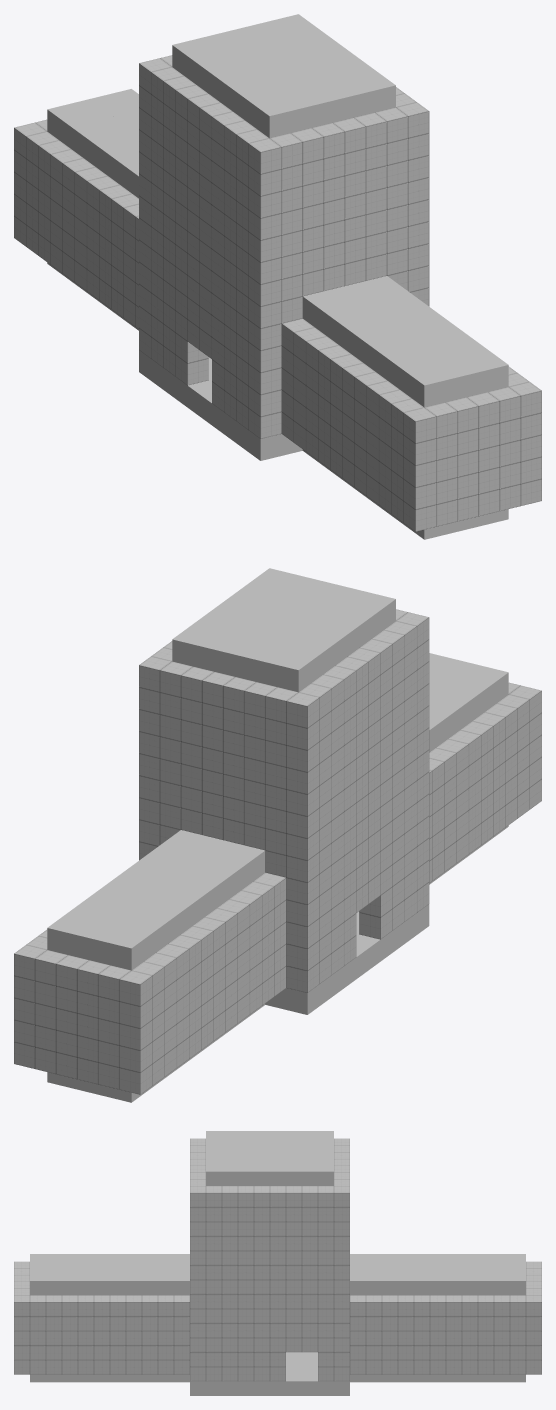
File: Level2 (1).fbx
The picture shows the model from 3 angles, top to bottom: view 1: azimuth 30°, elevation 25°; view 2: azimuth 150°, elevation 25°; view 3: azimuth 270°, elevation 25°; orthographic projection. The views are drawn at different scales.
Visible parts, largest first — view 1: Box1514, Box2744, Box062, Box1081, Box2473, Box065, Box061, Box1078, Box1080, Box1077, Box066, Box1079 (+1 smaller); view 2: Box1514, Box2744, Box2391, Box2049, Box2477, Box2044, Box2046, Box2048, Box2389, Box2390, Box2393, Box2045 (+1 smaller); view 3: Box1514, Box2744, Box061, Box085, Box109, Box133, Box157, Box181, Box205, Box229, Box253, Box277 (+21 smaller).
Boxes of the visible parts, x1=… form: Box1514: x1=14, y1=119, x2=541, y2=531; Box2744: x1=139, y1=55, x2=429, y2=328; Box062: x1=412, y1=371, x2=445, y2=407; Box1081: x1=257, y1=102, x2=290, y2=138; Box2473: x1=248, y1=430, x2=281, y2=460; Box065: x1=433, y1=366, x2=466, y2=402; Box061: x1=476, y1=356, x2=508, y2=391; Box1078: x1=278, y1=97, x2=311, y2=132; Box1080: x1=321, y1=87, x2=353, y2=122; Box1077: x1=342, y1=81, x2=374, y2=117; Box066: x1=455, y1=361, x2=487, y2=396; Box1079: x1=300, y1=92, x2=332, y2=127; Box1514: x1=14, y1=682, x2=541, y2=1094; Box2744: x1=139, y1=609, x2=429, y2=882; Box2391: x1=110, y1=934, x2=143, y2=970; Box2049: x1=277, y1=656, x2=310, y2=692; Box2477: x1=286, y1=984, x2=319, y2=1014; Box2044: x1=172, y1=630, x2=204, y2=666; Box2046: x1=214, y1=641, x2=246, y2=676; Box2048: x1=256, y1=651, x2=289, y2=686; Box2389: x1=68, y1=924, x2=101, y2=959; Box2390: x1=89, y1=929, x2=122, y2=964; Box2393: x1=47, y1=919, x2=79, y2=954; Box2045: x1=235, y1=646, x2=268, y2=681; Box1514: x1=14, y1=1261, x2=541, y2=1381; Box2744: x1=190, y1=1138, x2=349, y2=1308; Box061: x1=30, y1=1274, x2=45, y2=1295; Box085: x1=46, y1=1274, x2=61, y2=1295; Box109: x1=62, y1=1274, x2=77, y2=1295; Box133: x1=78, y1=1274, x2=93, y2=1295; Box157: x1=94, y1=1274, x2=109, y2=1295; Box181: x1=110, y1=1274, x2=125, y2=1295; Box205: x1=126, y1=1274, x2=141, y2=1295; Box229: x1=142, y1=1274, x2=157, y2=1295; Box253: x1=158, y1=1274, x2=173, y2=1295; Box277: x1=174, y1=1274, x2=189, y2=1295.
Size of the model in its own units: 16 by 66 by 30.
